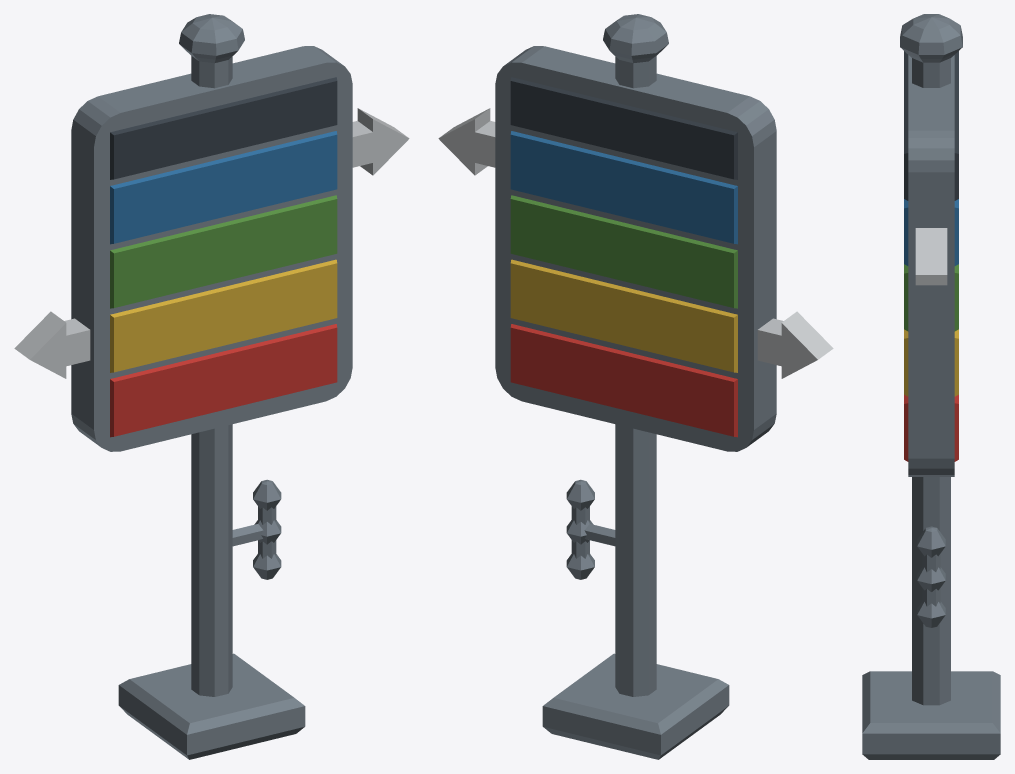
Rendered from wayfinding-totem-sign-dbb4be.glb.
The picture shows the model from 3 angles, left to right: view 1: azimuth 30°, elevation 25°; view 2: azimuth 150°, elevation 25°; view 3: azimuth 270°, elevation 25°; orthographic projection.
Parts seen in each view (by area): view 1: wayfinding-totem-sign; view 2: wayfinding-totem-sign; view 3: wayfinding-totem-sign.
Boxes of the visible parts, bbox=[...] form: wayfinding-totem-sign: bbox=[14, 14, 409, 759]; wayfinding-totem-sign: bbox=[438, 14, 833, 759]; wayfinding-totem-sign: bbox=[862, 14, 1000, 759].
Size of the model in its own units: 1.35 by 2.4 by 0.42.
